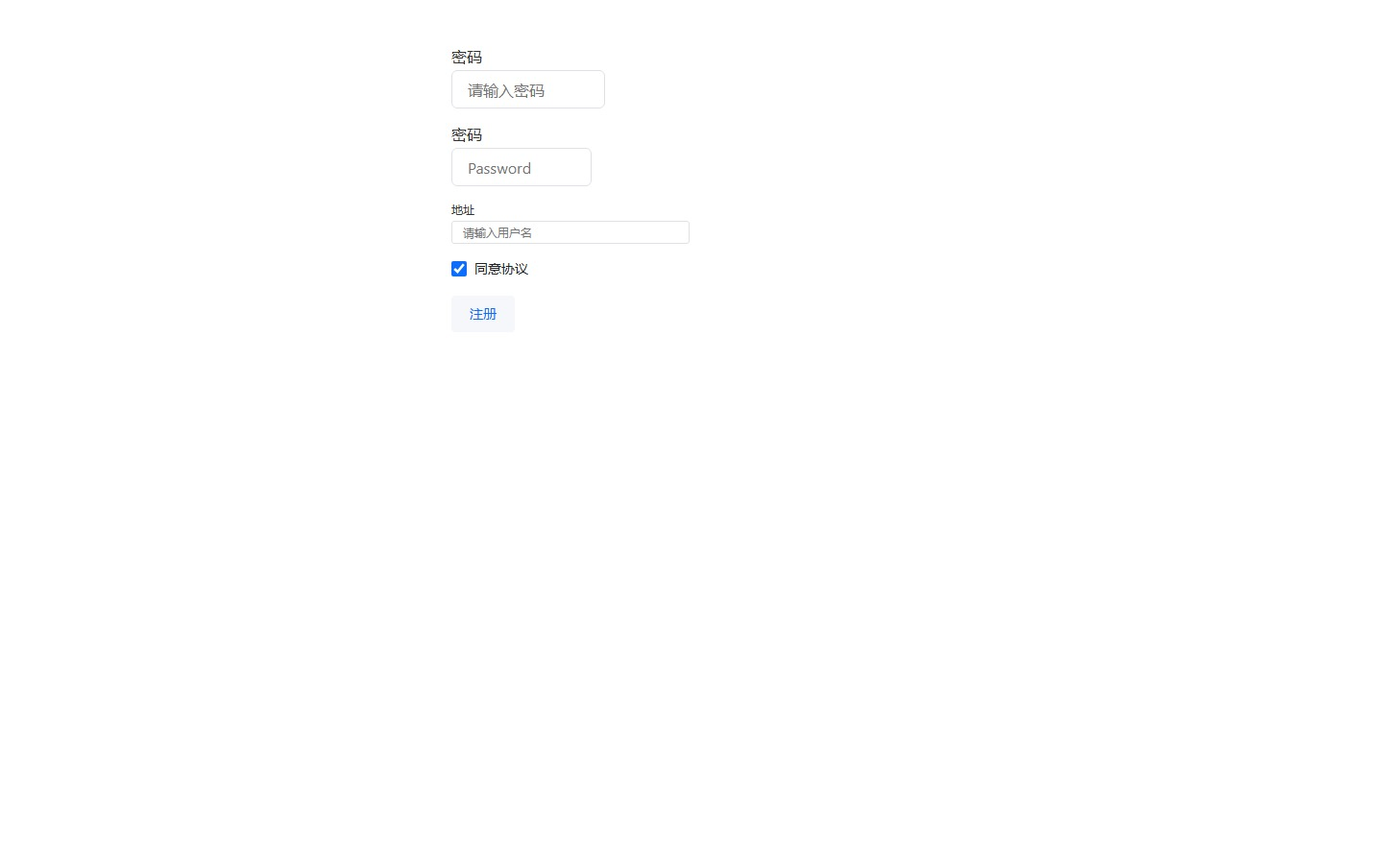button: (451, 295, 515, 332)
checkbox: (451, 261, 467, 276)
icon: (474, 259, 528, 277)
input: (451, 70, 605, 108), (451, 221, 690, 244), (451, 148, 592, 186)
radio: (451, 259, 528, 277)
